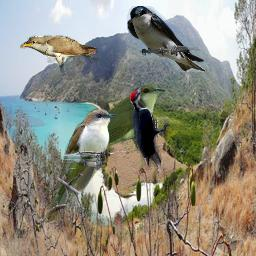Cuckoo: (57, 84, 166, 198), (42, 107, 115, 225), (20, 35, 99, 72)
Swallow: (127, 6, 205, 72)
Woodpecker: (129, 85, 170, 174)
